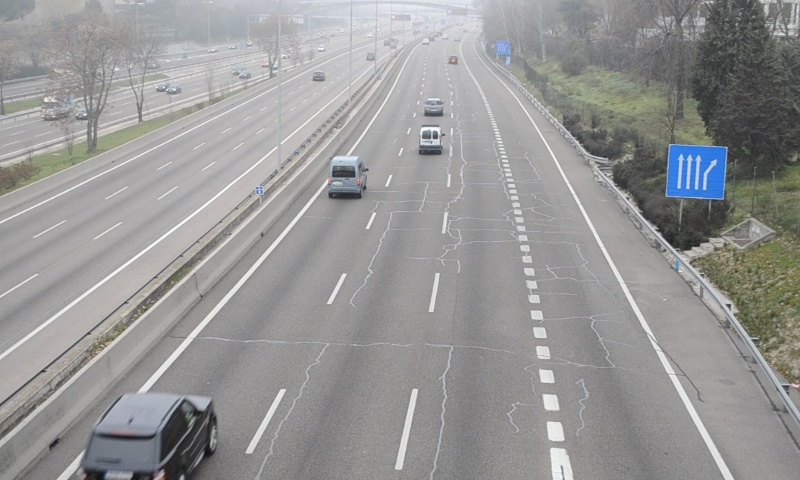car: (75, 394, 216, 480), (423, 97, 444, 116)
van: (327, 155, 368, 196), (418, 122, 444, 156)
